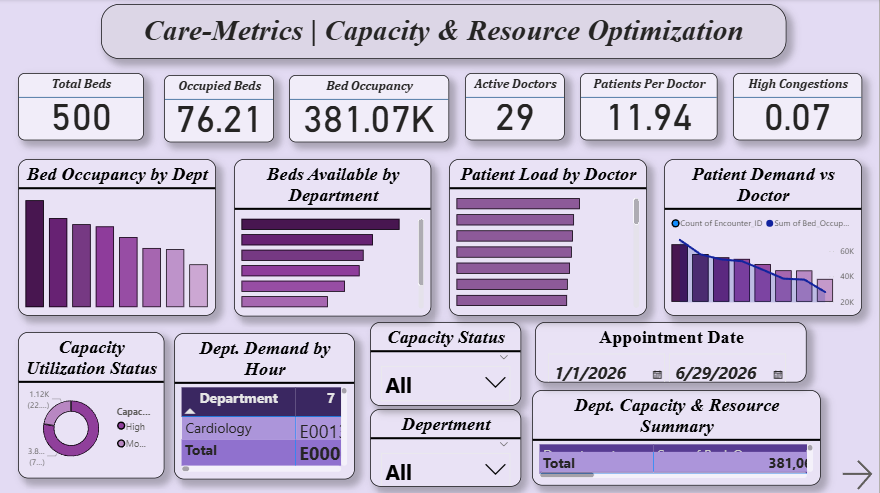

This screenshot's page, from the dashboard's own definition file:
{"tool":"powerbi","page":{"name":"Capacity & Resource Optimization","canvas":[1280,720],"ordinal":2},"visuals":[{"type":"card","title":"Total Beds","fields":{"Values":["PowerBI_Unified.Total Beds"]},"box":[27.5,107.5,182.5,97.5],"z":0},{"type":"clusteredColumnChart","title":"Bed Occupancy by Dept","fields":{"Category":["PowerBI_Unified.Department"],"Y":["Sum(PowerBI_Unified.Bed_Occupancy_Proxy)"]},"box":[27.5,232.5,287.5,227.5],"z":1000},{"type":"card","title":"Active Doctors","fields":{"Values":["PowerBI_Unified.Total Doctors"]},"box":[677.5,107.5,145,97.5],"z":2000},{"type":"card","title":"Occupied Beds","fields":{"Values":["PowerBI_Unified.Avg Bed Occupancy"]},"box":[240,110,160,97.5],"z":3000},{"type":"card","title":"Patients Per Doctor","fields":{"Values":["PowerBI_Unified.Avg Patients Per Doctor"]},"box":[845,107.5,200,97.5],"z":4000},{"type":"card","title":"High Congestions","fields":{"Values":["PowerBI_Unified.High Congestion %"]},"box":[1067.5,107.5,187.5,97.5],"z":5000},{"type":"textbox","box":[148.3,6.7,996.7,80],"z":6000},{"type":"slicer","title":"Appointment Date","fields":{"Values":["PowerBI_Unified.Appointment_Date"]},"box":[780,470,395,87.5],"z":7000},{"type":"barChart","title":"Patient Load by Doctor","fields":{"Category":["PowerBI_Unified.Doctor_ID"],"Y":["CountNonNull(PowerBI_Unified.Encounter_ID)"]},"box":[655,232.5,287.5,227.5],"z":9000},{"type":"slicer","title":"Depertment","fields":{"Values":["PowerBI_Unified.Department"]},"box":[539.9,596.5,219.9,113.2],"z":10000},{"type":"slicer","title":"Capacity Status","fields":{"Values":["Calendar.Capacity Status"]},"box":[539.9,470.2,219.9,121.9],"z":11000},{"type":"actionButton","box":[1220,665,60,55],"z":12000},{"type":"card","title":"Bed Occupancy","fields":{"Values":["Sum(PowerBI_Unified.Bed_Occupancy_Proxy)"]},"box":[422.5,110,232.5,97.5],"z":13000},{"type":"lineClusteredColumnComboChart","title":"Patient Demand vs Doctor","fields":{"Category":["PowerBI_Unified.Department"],"Y":["CountNonNull(PowerBI_Unified.Encounter_ID)"],"Y2":["Sum(PowerBI_Unified.Bed_Occupancy_Proxy)"]},"box":[967.5,232.5,287.5,227.5],"z":14000},{"type":"donutChart","title":"Capacity Utilization Status","fields":{"Category":["Calendar.Capacity Status"],"Y":["CountNonNull(PowerBI_Unified.Encounter_ID)"]},"box":[27.5,485,212.5,212.5],"z":15000},{"type":"pivotTable","title":"Dept. Demand by Hour","fields":{"Rows":["PowerBI_Unified.Department"],"Values":["Min(PowerBI_Unified.Encounter_ID)"],"Columns":["PowerBI_Unified.Appointment_Hour"]},"box":[254.7,485.4,263.4,213.3],"z":16000},{"type":"pivotTable","title":"Dept. Capacity & Resource Summary","fields":{"Rows":["PowerBI_Unified.Department"],"Values":["Sum(PowerBI_Unified.Bed_Occupancy_Proxy)","PowerBI_Unified.Total Beds","PowerBI_Unified.High Congestion Encounters","PowerBI_Unified.Total Encounters","PowerBI_Unified.Total Doctors","PowerBI_Unified.Avg Waiting Time"]},"box":[775,568.2,420.1,139.3],"z":17000},{"type":"clusteredBarChart","title":"Beds Available by Department","fields":{"Category":["PowerBI_Unified.Department"],"Y":["CountNonNull(PowerBI_Unified.Bed_ID)"]},"box":[341.8,232.9,287.3,228.6],"z":17001}]}

Visuals, with their boxes in screenshot pixels (x1, y1, x2, y2), scaled from the page's 1280x720 canvas onto the 880x493 screenshot:
"Total Beds" card: crop(19, 74, 144, 140)
"Bed Occupancy by Dept" clusteredColumnChart: crop(19, 159, 217, 315)
"Active Doctors" card: crop(466, 74, 565, 140)
"Occupied Beds" card: crop(165, 75, 275, 142)
"Patients Per Doctor" card: crop(581, 74, 718, 140)
"High Congestions" card: crop(734, 74, 863, 140)
textbox: crop(102, 5, 787, 59)
"Appointment Date" slicer: crop(536, 322, 808, 382)
"Patient Load by Doctor" barChart: crop(450, 159, 648, 315)
"Depertment" slicer: crop(371, 408, 522, 486)
"Capacity Status" slicer: crop(371, 322, 522, 405)
actionButton: crop(839, 455, 879, 492)
"Bed Occupancy" card: crop(290, 75, 450, 142)
"Patient Demand vs Doctor" lineClusteredColumnComboChart: crop(665, 159, 863, 315)
"Capacity Utilization Status" donutChart: crop(19, 332, 165, 478)
"Dept. Demand by Hour" pivotTable: crop(175, 332, 356, 478)
"Dept. Capacity & Resource Summary" pivotTable: crop(533, 389, 822, 484)
"Beds Available by Department" clusteredBarChart: crop(235, 159, 433, 316)
